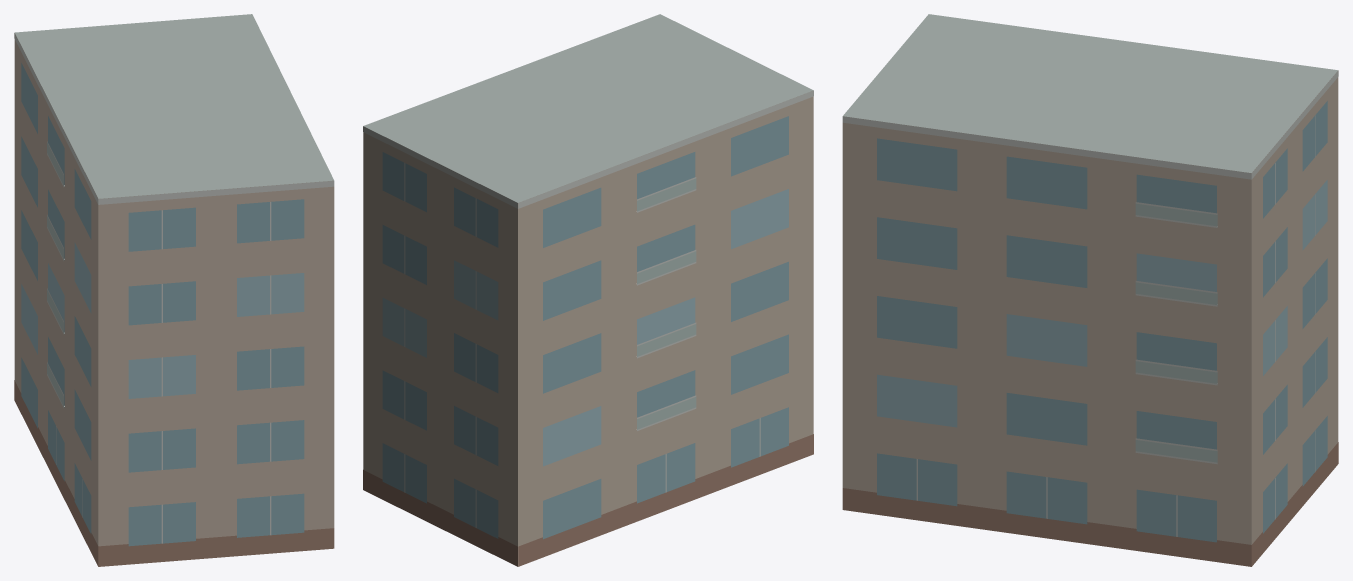
The model's file is survey-upis-32852775.glb.
The picture shows the model from 3 angles, left to right: view 1: azimuth 30°, elevation 25°; view 2: azimuth 150°, elevation 25°; view 3: azimuth 270°, elevation 25°; orthographic projection. The views are drawn at different scales.
Parts seen in each view (by area): view 1: survey-upis-32852775.tmp; view 2: survey-upis-32852775.tmp; view 3: survey-upis-32852775.tmp.
Boxes of the visible parts, x1,y1,x2,y2 form: survey-upis-32852775.tmp: (14,14,334,566); survey-upis-32852775.tmp: (363,14,813,566); survey-upis-32852775.tmp: (842,14,1338,566).
Size of the model in its own units: 12.84 by 14.8 by 16.9.
